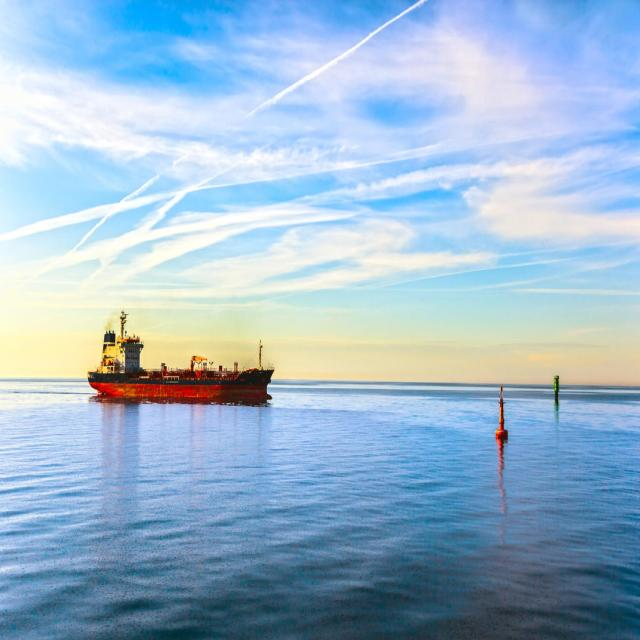buoy: (492, 386, 511, 445), (550, 374, 563, 403)
cargoship: (86, 306, 281, 408)
